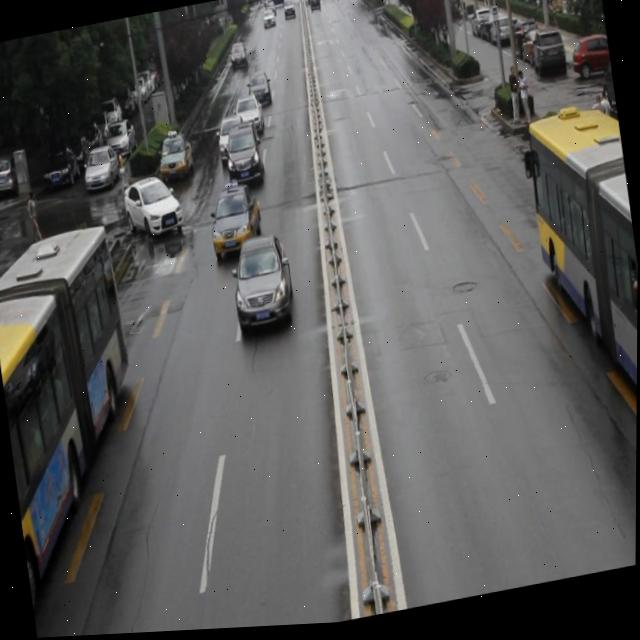car: (228, 230, 298, 338), (206, 182, 266, 268), (121, 174, 187, 248), (224, 126, 264, 190), (157, 130, 195, 186), (214, 116, 249, 169), (232, 95, 264, 141), (245, 73, 272, 111)
van: (0, 220, 163, 610), (518, 118, 639, 476)
